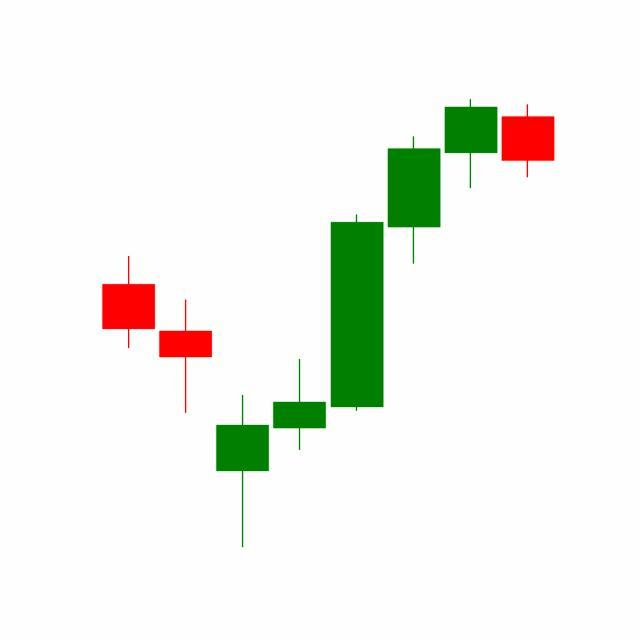Advance Block: (328, 100, 500, 417)
